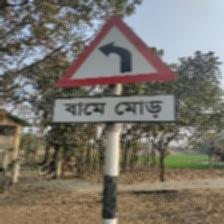Left-Turn: (51, 14, 180, 126)
